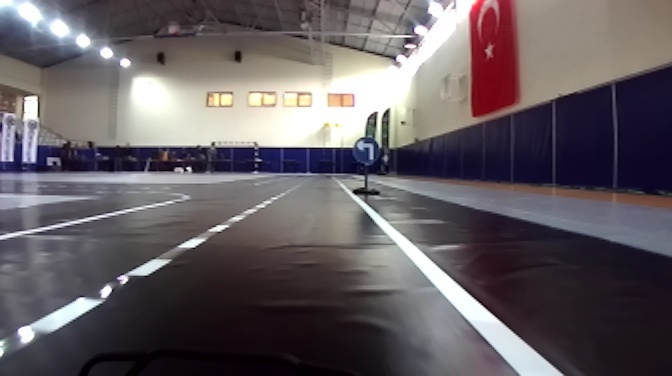sola_donus: (354, 134, 381, 165)
